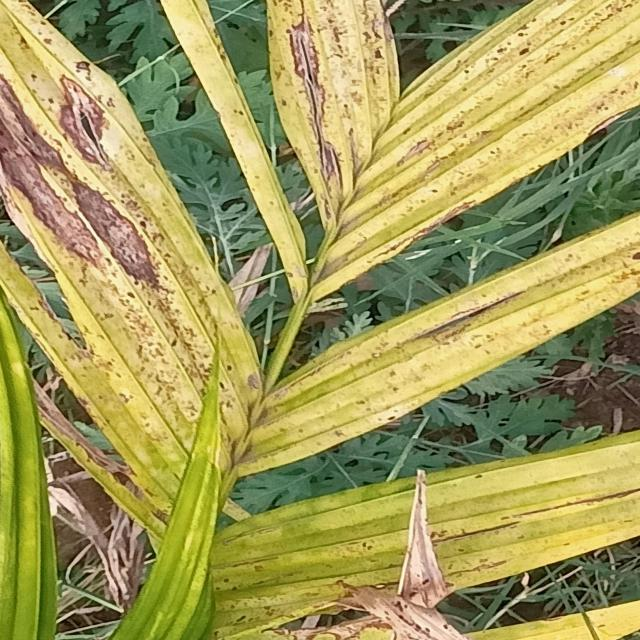Yellow_Leaf_Disease: (58, 158, 460, 530)
